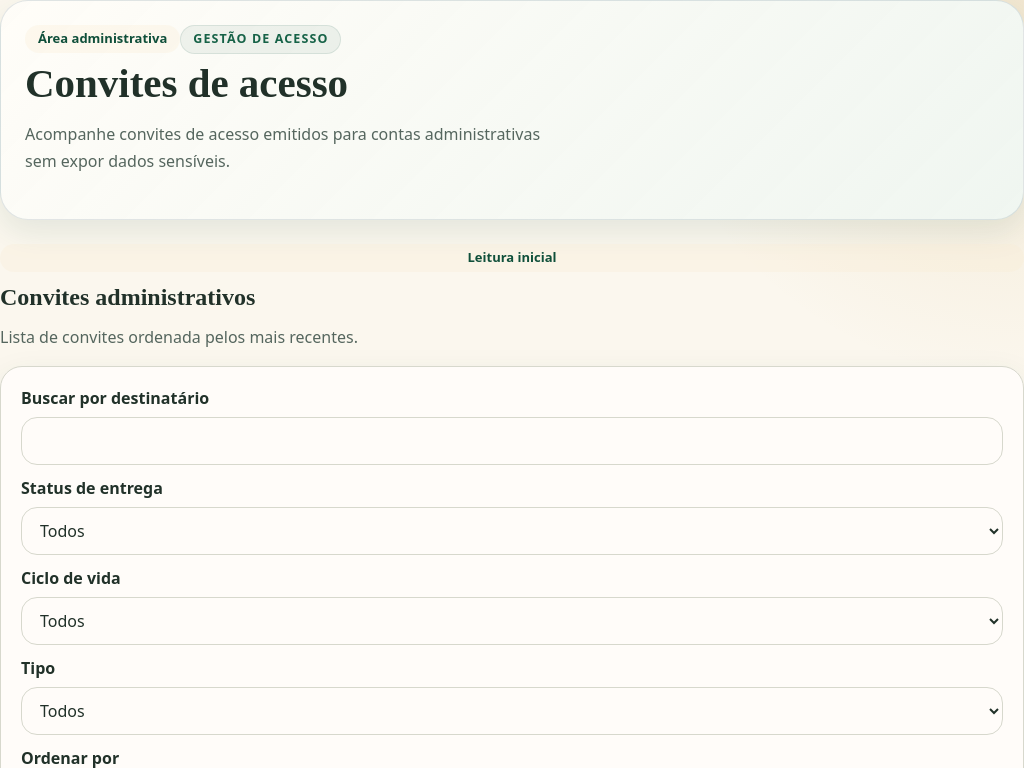
Test: AdminAccountInvitationsPage › rascunhos nao aplicados nao entram na recarga apos reenvio
In the field labelled "Buscar por destinatário": (512, 441) [21, 417, 1003, 465], type "Nao aplicado"
(page scrolled)
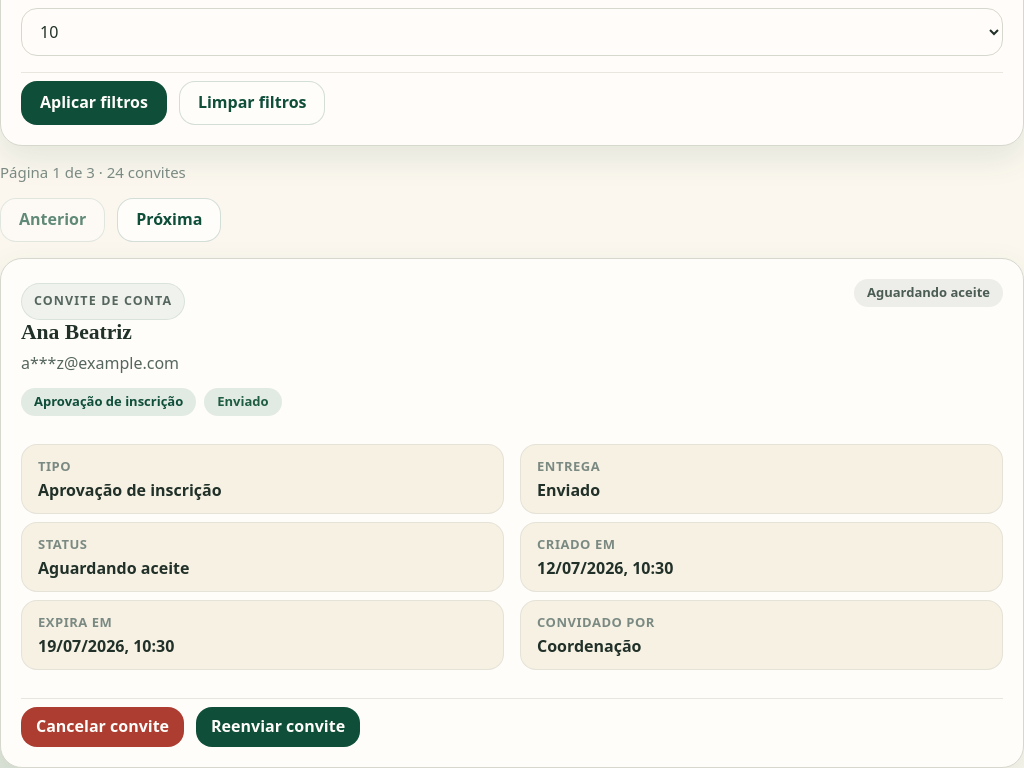
Click the button "Reenviar convite": click(278, 727) [196, 707, 360, 747]
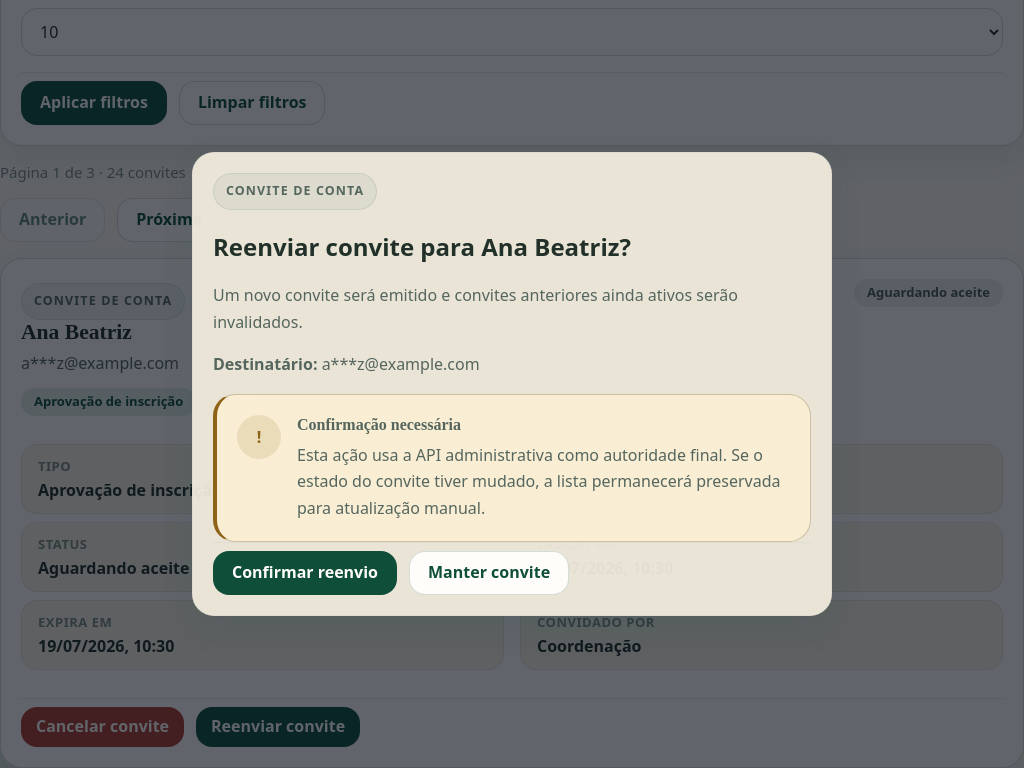
Click the button "Confirmar reenvio": click(305, 573) [213, 551, 397, 595]
(page scrolled)
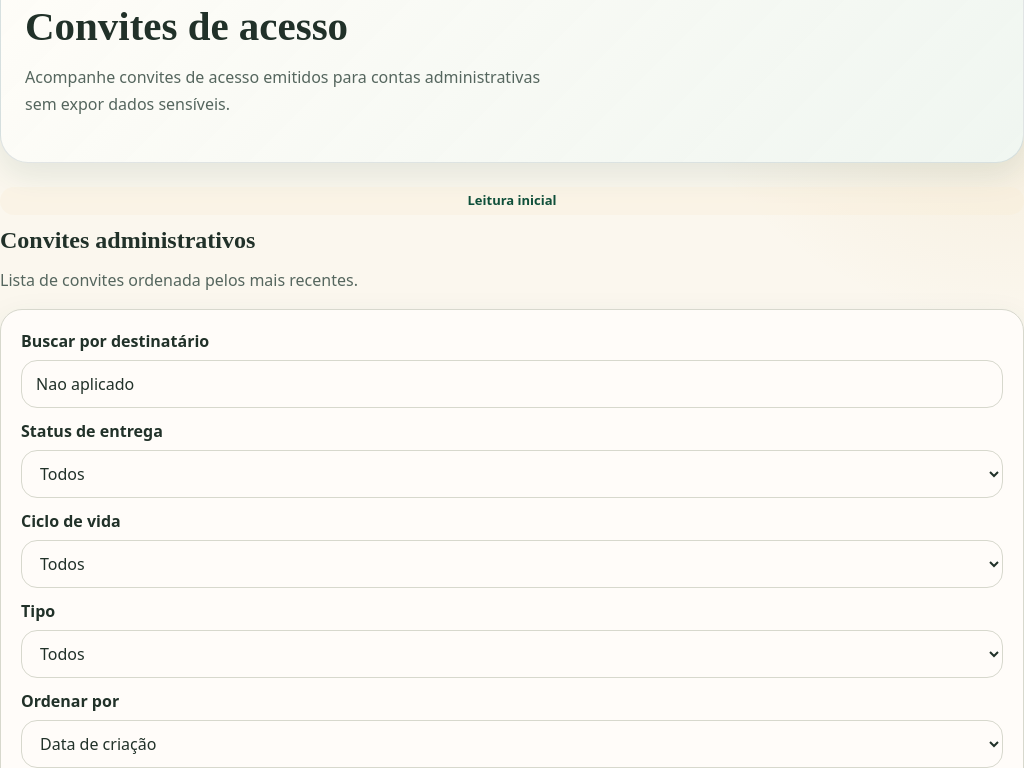
Expected: the text "Ana Beatriz" is not shown
Now the button "Confirmar reenvio" is gone
